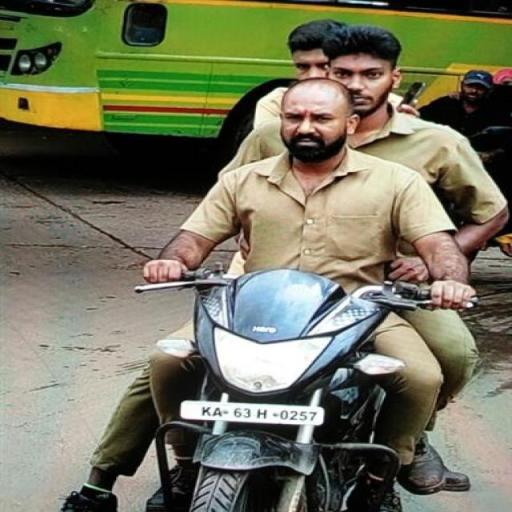tripple riding: (213, 20, 505, 272)
